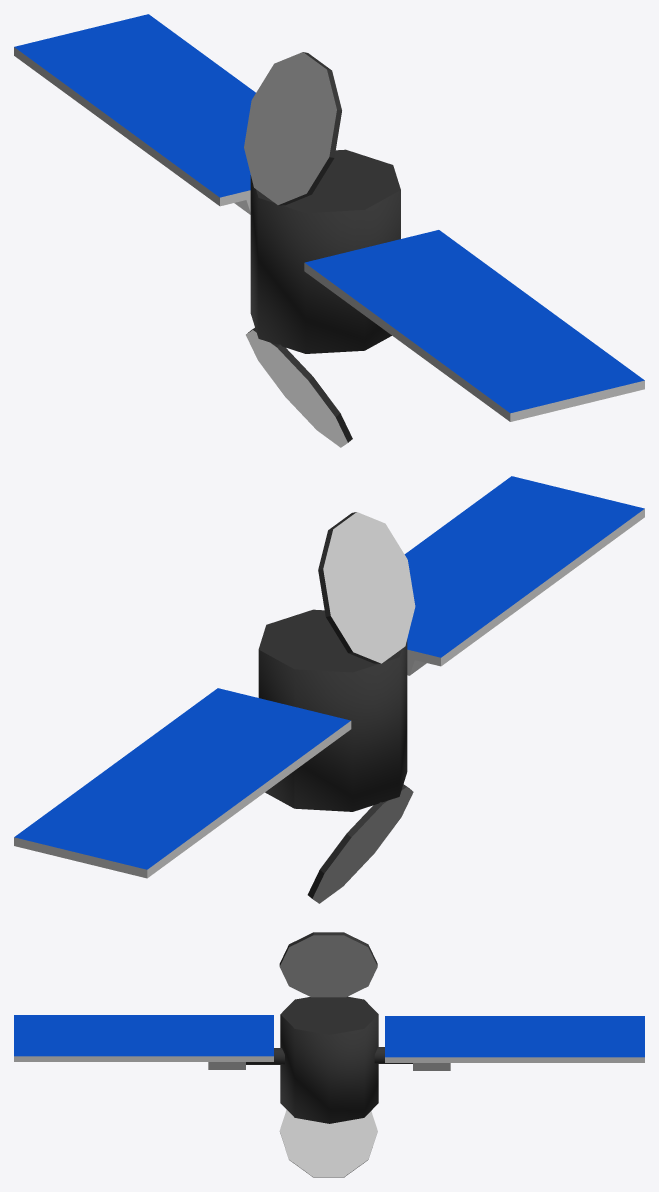
The model's file is satellite.fbx.
3 views of the same model, one above another, from view 1: azimuth 30°, elevation 25°; view 2: azimuth 150°, elevation 25°; view 3: azimuth 270°, elevation 25° (orthographic). The views are drawn at different scales.
Visible parts, largest first — view 1: Cylinder, Cube.001, Cube; view 2: Cylinder, Cube, Cube.001; view 3: Cylinder, Cube.001, Cube.
Boxes of the visible parts, box(x1,y1,x2,y2) form: Cylinder: box(244, 52, 400, 447); Cube.001: box(304, 230, 644, 421); Cube: box(14, 14, 255, 214); Cylinder: box(258, 512, 415, 903); Cube: box(14, 688, 351, 878); Cube.001: box(404, 476, 644, 675); Cylinder: box(246, 932, 412, 1177); Cube.001: box(14, 1015, 273, 1069); Cube: box(385, 1016, 644, 1070).
Size of the model in its own units: 208 by 542 by 1285.
